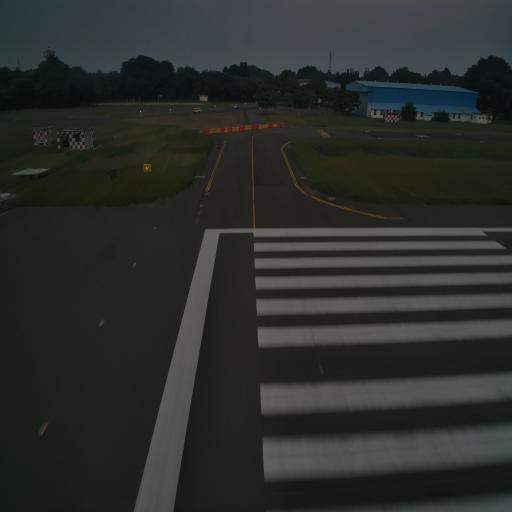on: (40, 419, 50, 438), (97, 316, 106, 328)
